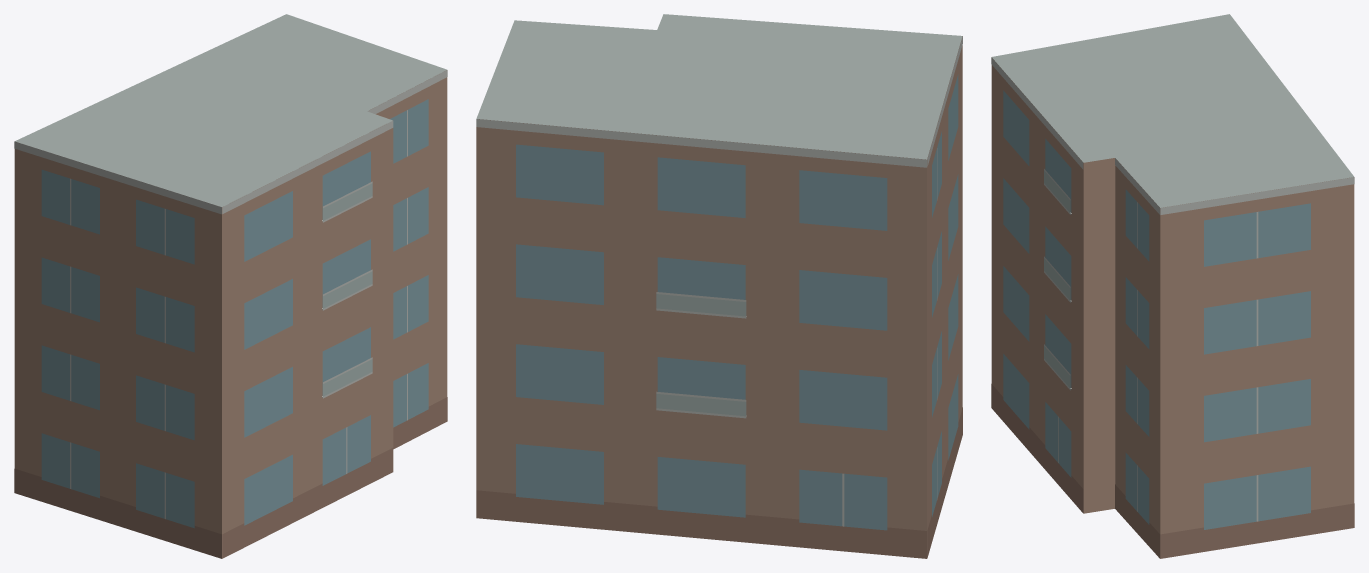
File: survey-upis-32961319.glb
3 views of the same model, side by side, from view 1: azimuth 30°, elevation 25°; view 2: azimuth 150°, elevation 25°; view 3: azimuth 270°, elevation 25° (orthographic). The views are drawn at different scales.
Visible parts, largest first — view 1: survey-upis-32961319.tmp; view 2: survey-upis-32961319.tmp; view 3: survey-upis-32961319.tmp.
Boxes of the visible parts, x1,y1,x2,y2 form: survey-upis-32961319.tmp: (14, 14, 447, 558); survey-upis-32961319.tmp: (476, 14, 962, 558); survey-upis-32961319.tmp: (991, 14, 1354, 558).
Size of the model in its own units: 13.99 by 11.8 by 11.07.
